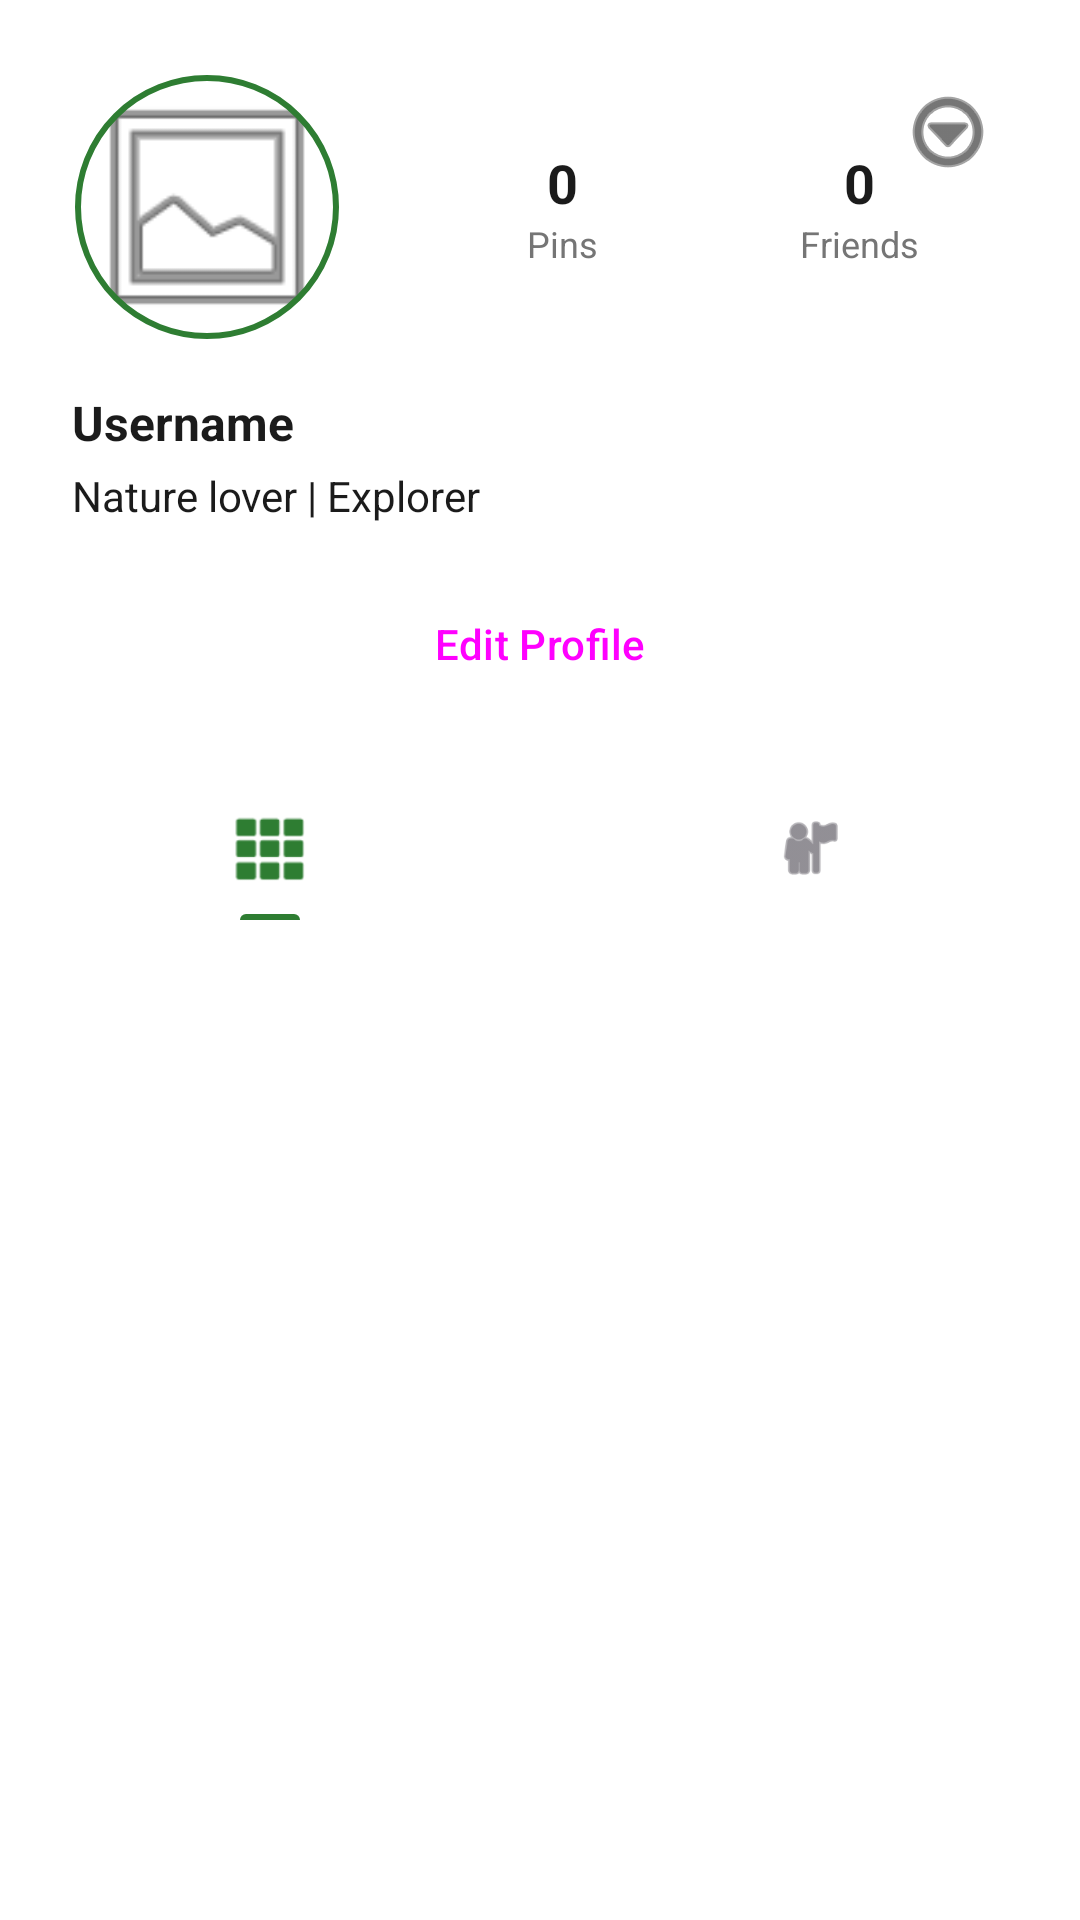

Screen size 1080 × 1920. Icon name, then its center in pixels as [x,y]:
more: [948,132]
